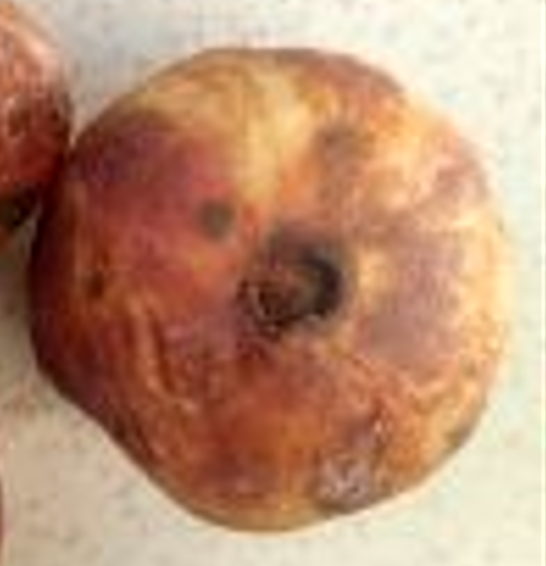guava_C: (25, 47, 513, 530)
